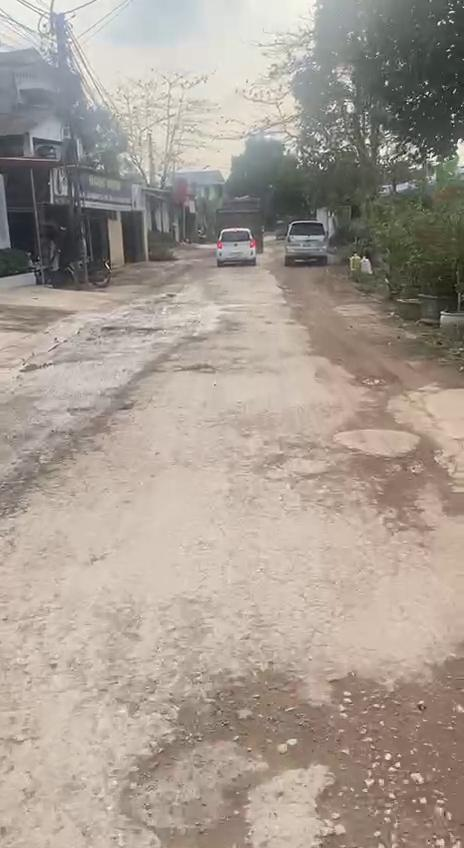pothole: (98, 652, 464, 848)
